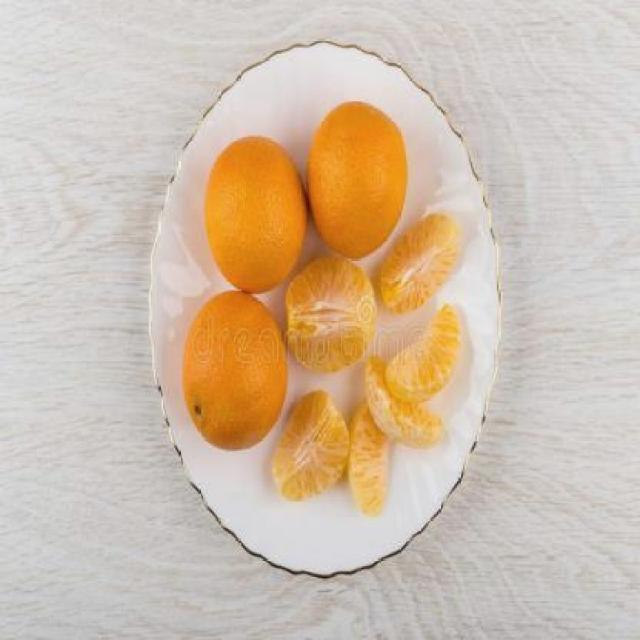Jeruk Sudah Matang: (306, 98, 408, 259), (186, 290, 289, 448), (206, 135, 308, 294)
